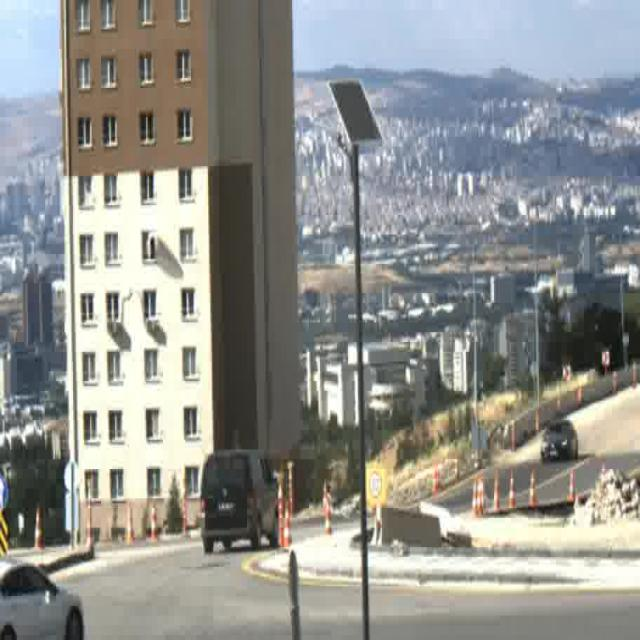Car: (200, 448, 286, 555), (0, 551, 84, 640), (540, 418, 579, 462)
